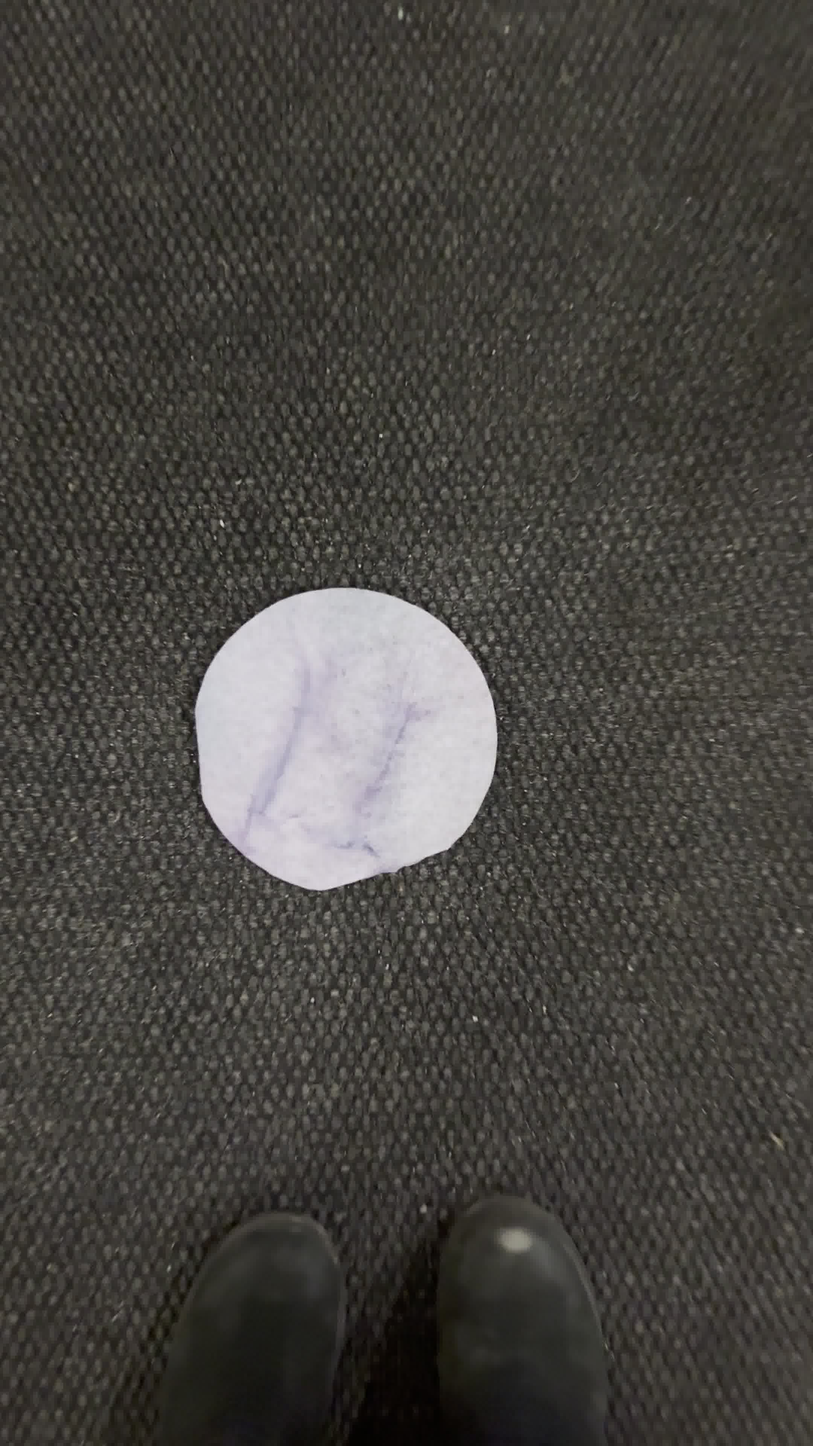Target: (184, 583, 507, 891)
